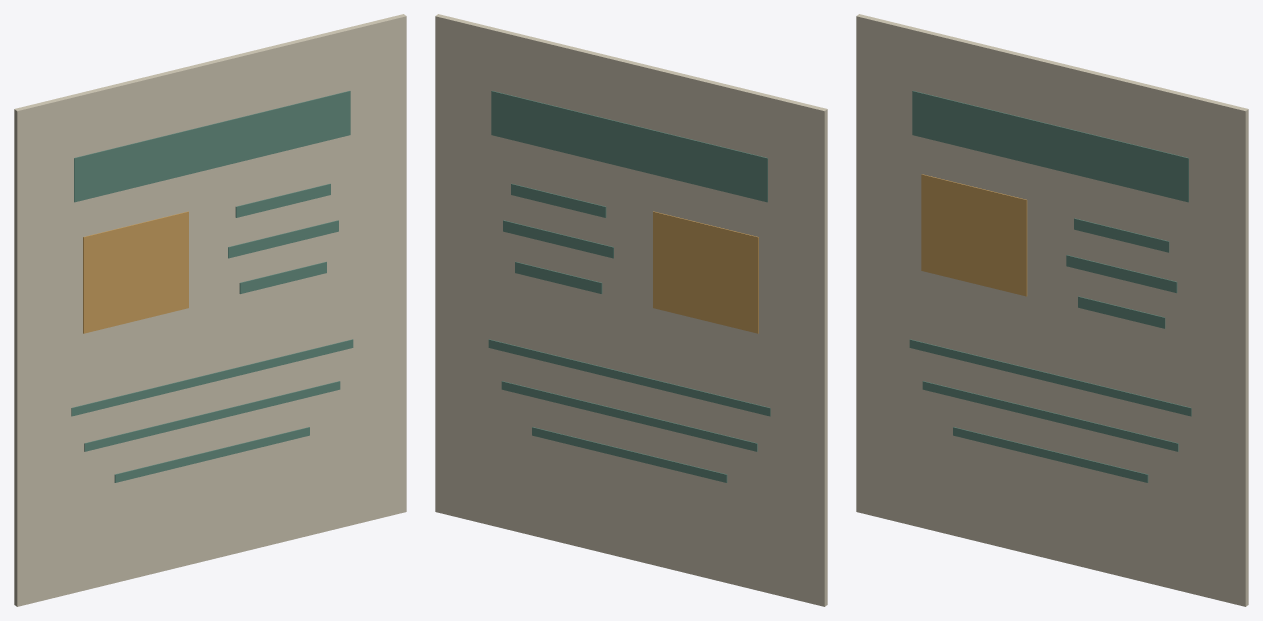
Rendered from flyer_single.glb.
The picture shows the model from 3 angles, left to right: view 1: azimuth 30°, elevation 25°; view 2: azimuth 150°, elevation 25°; view 3: azimuth 330°, elevation 25°; orthographic projection.
Parts seen in each view (by area): view 1: Paper, Heading.001, Highlight.001, Copy.003, Copy.004, Copy.005, Feature.004, Feature.003, Feature.005; view 2: Paper, Heading.002, Highlight.002, Copy.006, Copy.007, Copy.008, Feature.007, Feature.006, Feature.008; view 3: Paper, Heading.001, Highlight.001, Copy.003, Copy.004, Copy.005, Feature.004, Feature.003, Feature.005.
Part boxes in pixels (x1,y1,x2,y2): Paper: [14, 14, 406, 606]; Heading.001: [74, 91, 350, 202]; Highlight.001: [83, 211, 188, 333]; Copy.003: [71, 339, 353, 416]; Copy.004: [84, 381, 340, 451]; Copy.005: [114, 427, 309, 482]; Feature.004: [228, 220, 338, 258]; Feature.003: [235, 183, 330, 217]; Feature.005: [239, 261, 326, 293]; Paper: [435, 14, 827, 606]; Heading.002: [491, 91, 767, 202]; Highlight.002: [653, 211, 758, 333]; Copy.006: [488, 339, 770, 416]; Copy.007: [501, 381, 757, 451]; Copy.008: [532, 427, 727, 482]; Feature.007: [503, 220, 613, 258]; Feature.006: [511, 183, 606, 217]; Feature.008: [515, 261, 602, 293]; Paper: [856, 14, 1248, 606]; Heading.001: [912, 91, 1188, 202]; Highlight.001: [921, 174, 1027, 296]; Copy.003: [909, 339, 1191, 416]; Copy.004: [922, 381, 1178, 451]; Copy.005: [953, 427, 1148, 482]; Feature.004: [1066, 255, 1177, 293]; Feature.003: [1074, 218, 1169, 252]; Feature.005: [1078, 296, 1165, 328].
Bounding box in the file's own units: 0.148 × 0.18 × 0.0027.
